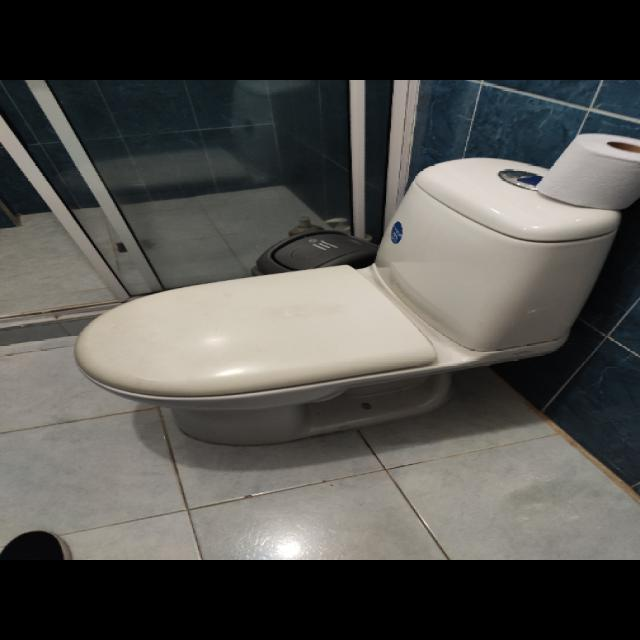toilet: (72, 156, 621, 446)
